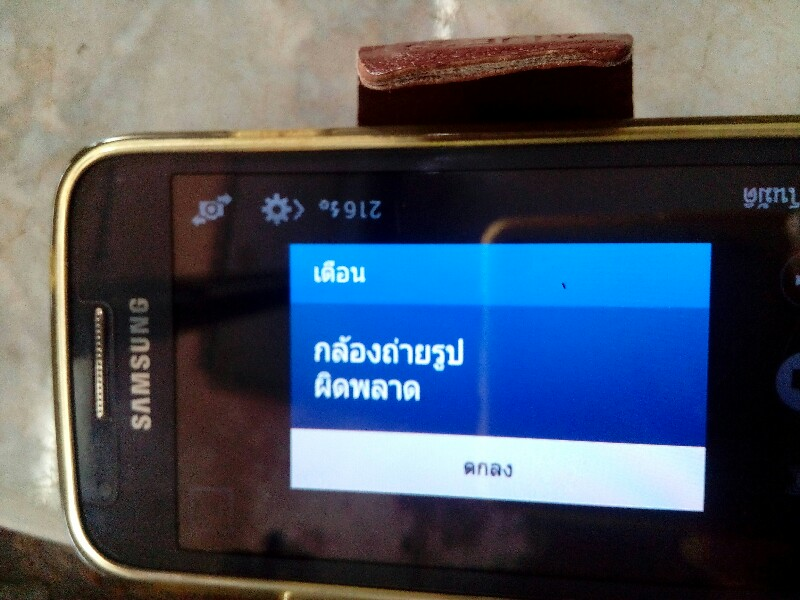Phone: (44, 112, 800, 600)
